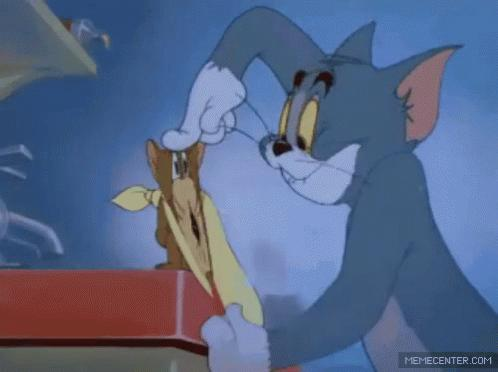jerry: (144, 137, 218, 274)
